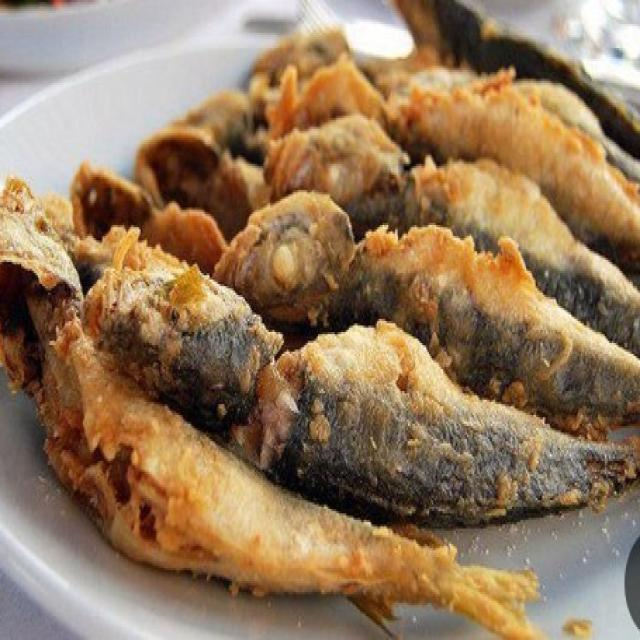ana_yemek: (0, 22, 637, 636)
